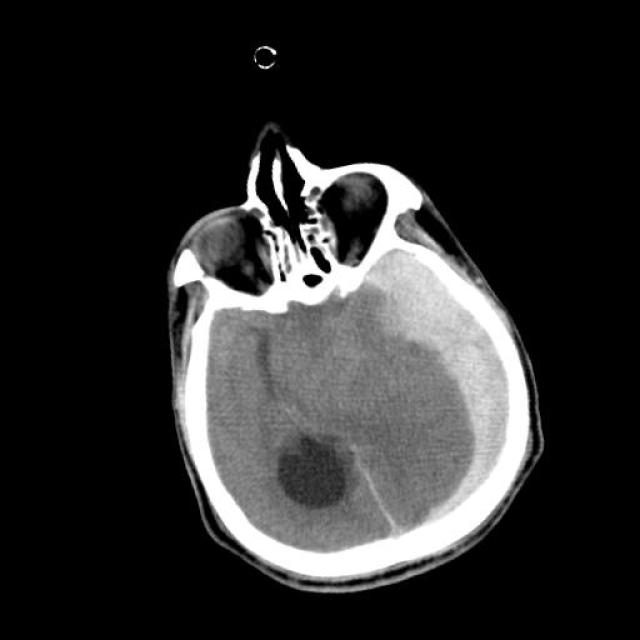Subdural: (342, 214, 589, 540), (323, 449, 418, 569)
